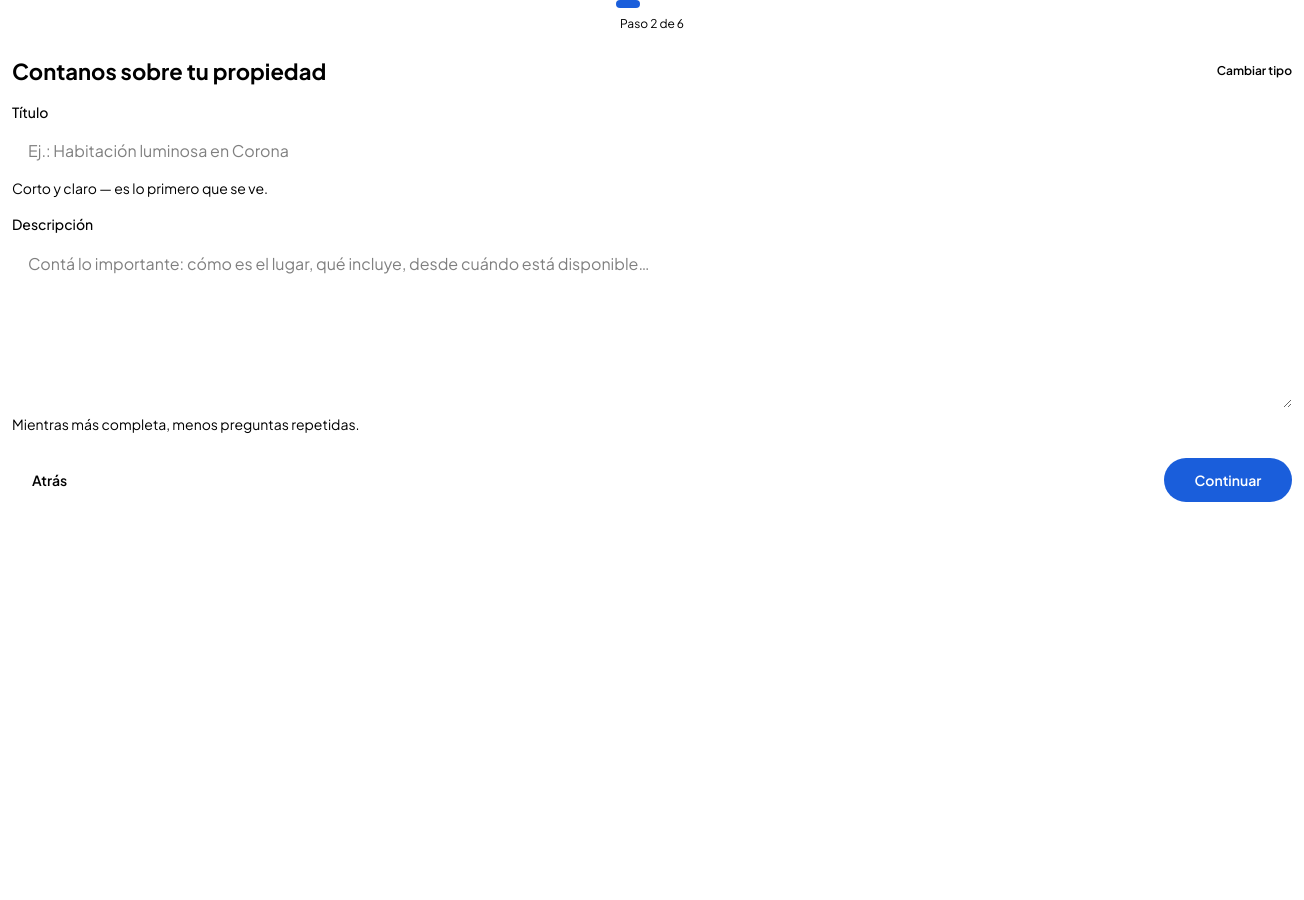
Scenario: PublishForm — vivienda: la venta salió del formulario › dice en una línea que por ahora sólo se publican alquileres
Type "Cuarto amplio en casa compartida" into the field labelled "Título".
click(652, 150); type("Cuarto amplio en casa compartida")  # box [12,128,1292,172]
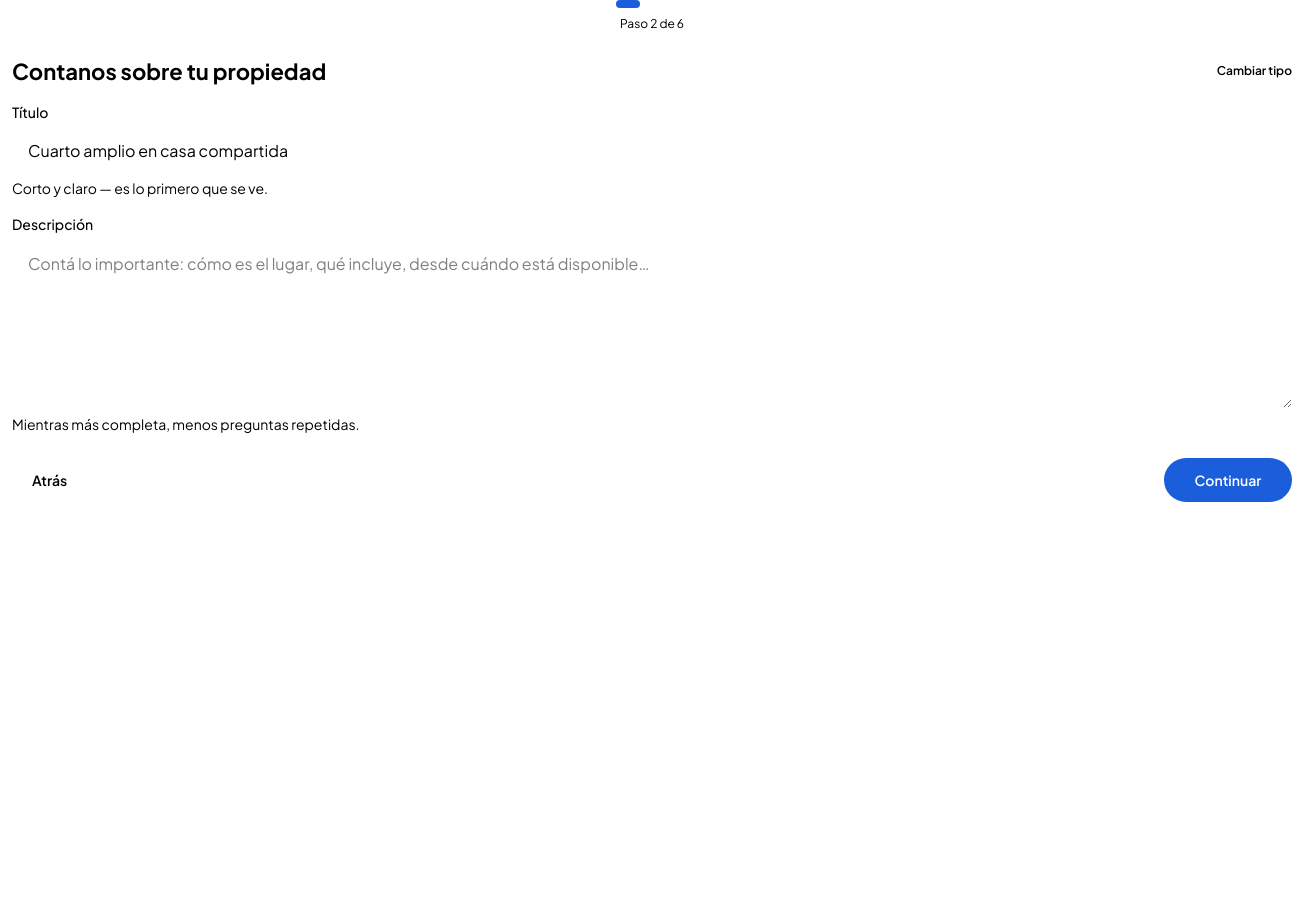
Replace the text in the text box labelled "Descripción" with "Cuarto con placard en casa tranquila, a tres cuadras del tren. Servicios incluidos." at (652, 324), box [12,240,1292,408]
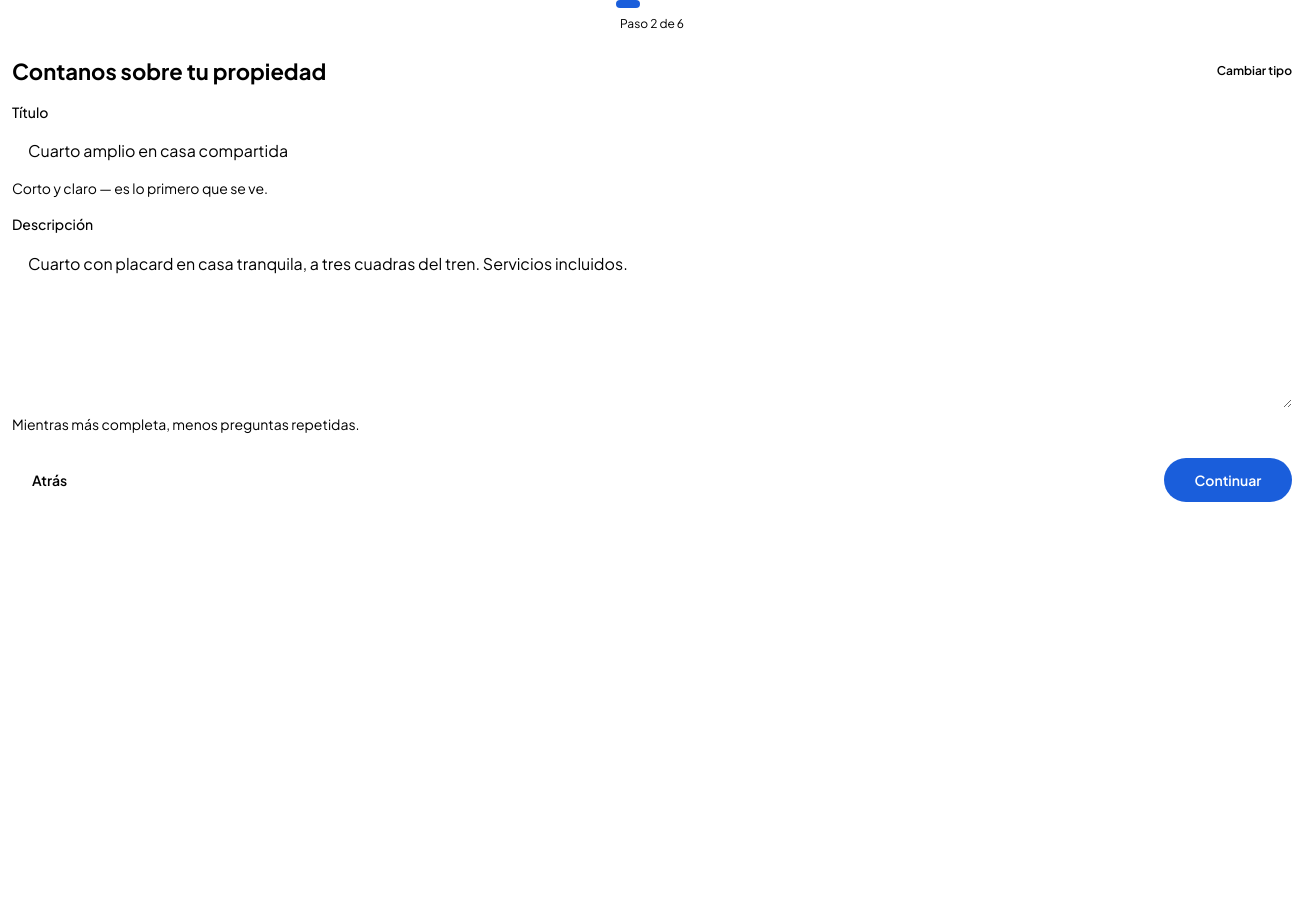
Click the button "Continuar".
click(1228, 480)  # box [1164,458,1292,502]
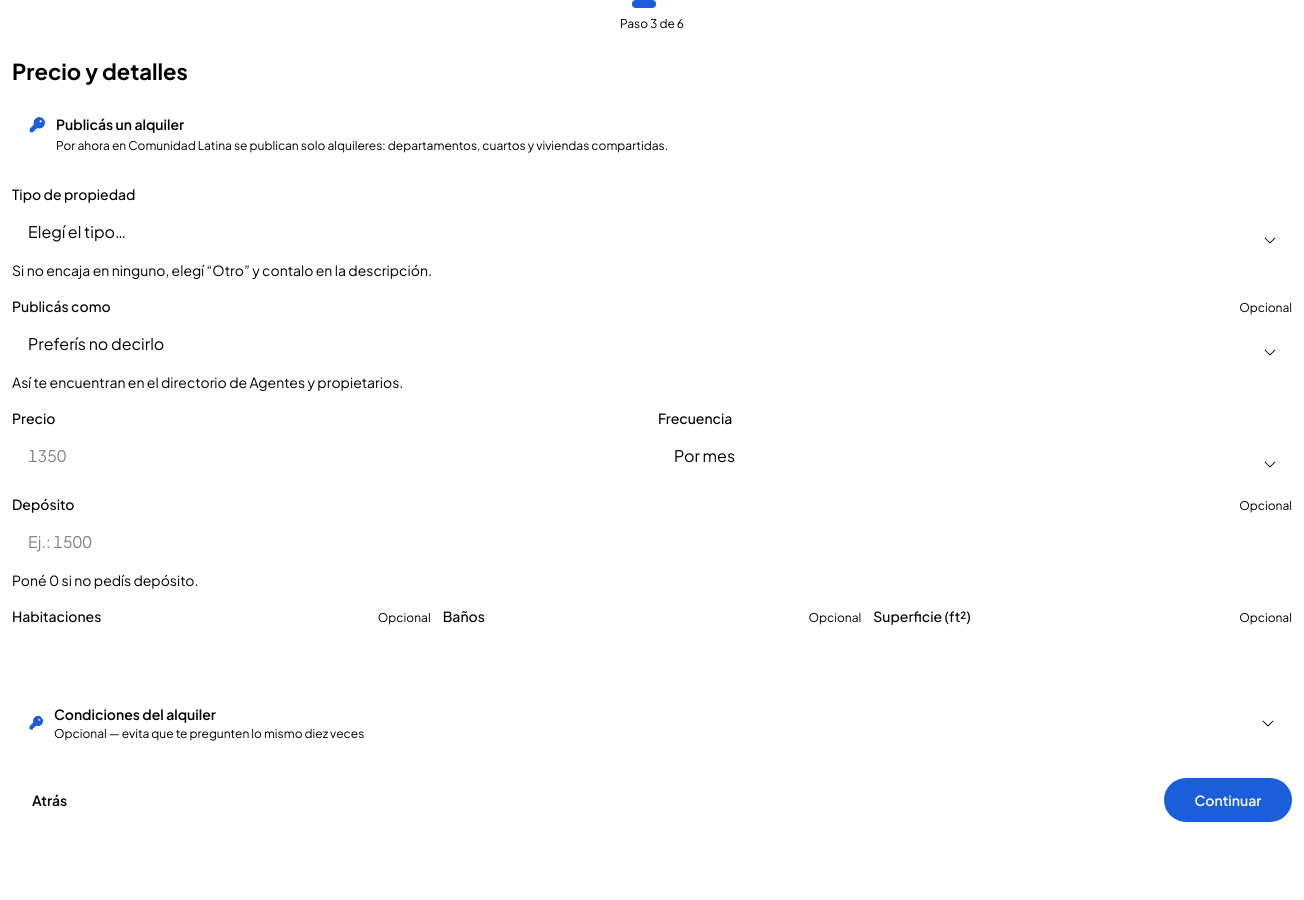
Check: the text "Publicás un alquiler" is shown, box [56,115,184,133]
Check: the text "solo alquileres" is shown, box [56,138,668,153]
